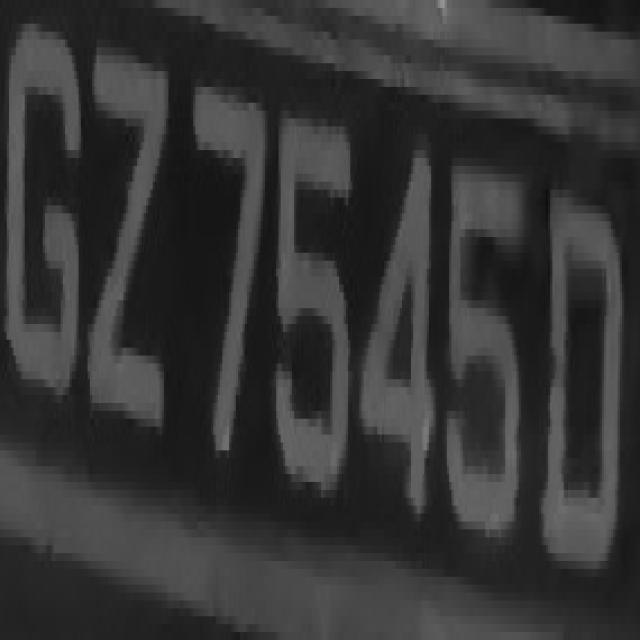4: (352, 103, 442, 545)
5: (440, 102, 530, 592), (268, 87, 350, 490)
7: (186, 55, 276, 490)
D: (534, 166, 629, 577)
G: (7, 16, 81, 411)
Z: (78, 8, 180, 490)
